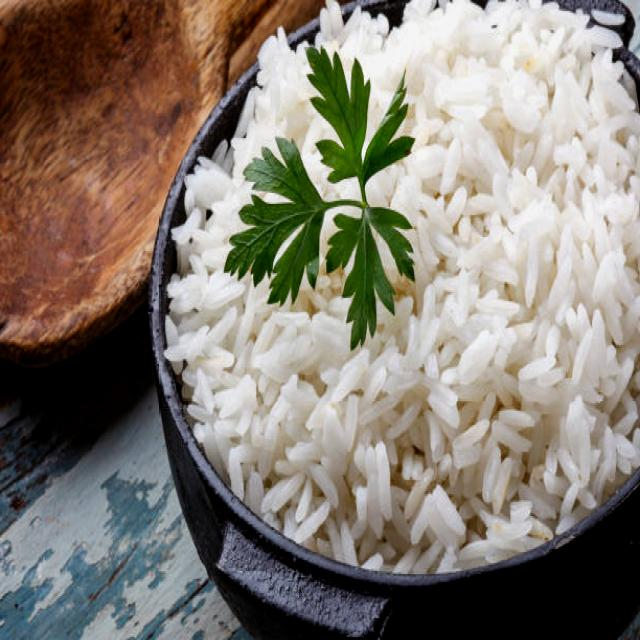Rice: (163, 0, 640, 577)
